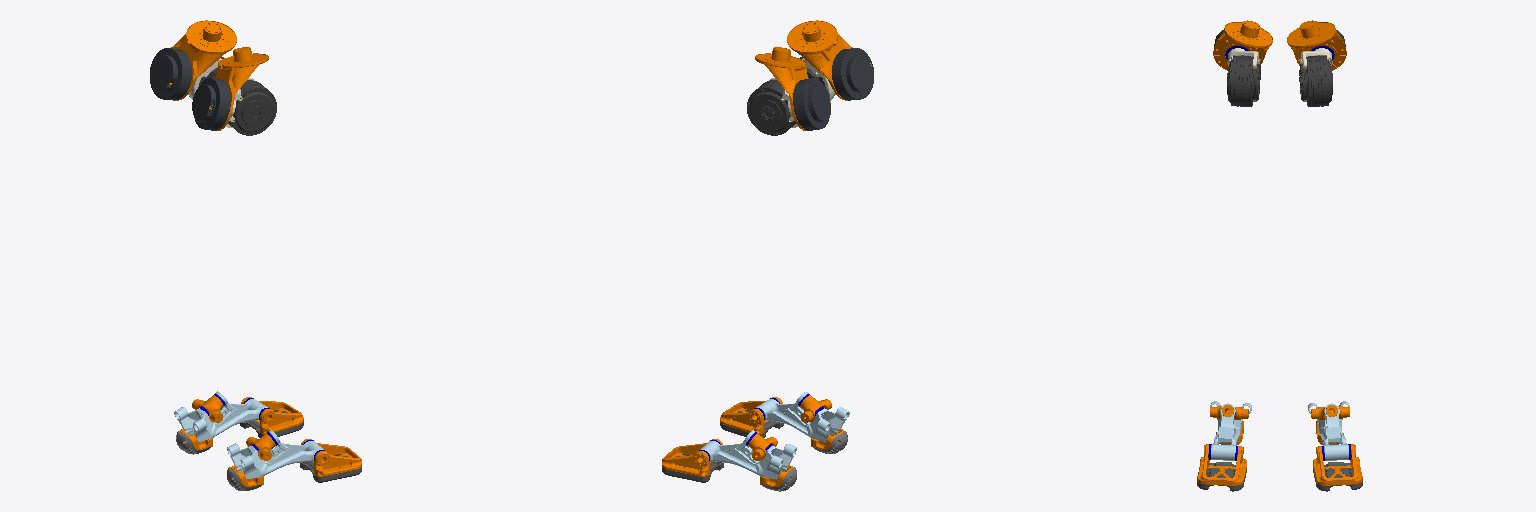
robot.urdf — prestoe:
<?xml version="1.0" encoding="utf-8"?>
<robot name="prestoe">
    <link name="world" />
    <joint name="floating_base_joint" type="floating">
        <parent link="world"/>
        <child link="torso_link"/>
    </joint>
    <link name="torso_link">
        <inertial>
            <mass value="7.3955327"/>
            <inertia ixx="314898.04974e-6" ixy="-23.52183e-6" ixz="-983.13041e-6" iyy="292494.07567e-6" iyz="824.26242e-6" izz="47419.11099e-6"/>
            <origin rpy="0 0 0" xyz="0.02827e-3 -0.53546e-3 170.93286e-3"/>
        </inertial>
        <visual>
            <origin rpy="0 0 0" xyz="0.0 0.0 0.0"/>
            <geometry>
                <mesh filename="../meshes/torso_link.dae"/>
            </geometry>
        </visual>
        <collision>
            <origin rpy="0 0 0" xyz="0.0 0.0 0.0"/>
            <geometry>
                <mesh filename="../meshes/torso_link.dae"/>
            </geometry>
        </collision>
    </link>

 <joint name="a_torsoyaw" type="fixed">
      <parent link="torso_link"/>
      <child link="pelvis"/>
      <axis xyz="0 0 1"/>
      <origin rpy="0 0 0" xyz="0.0 0.0 -44.5e-3"/>
      <limit effort="1000" lower="-1.57079632679" upper="1.57079632679" velocity="20"/>
  </joint>

    <link name="pelvis">
        <inertial>
            <mass value="4.05352722"/>
            <inertia ixx="16129.06382e-6" ixy="0.02459e-6" ixz="-11.24282e-6" iyy="8349.24216e-6" iyz="0.16863e-6" izz="13083.52644e-6"/>
            <origin xyz="0.1893e-3 -0.00259e-3 -24.14927e-3"/>
        </inertial>
        <visual>
            <origin rpy="0 0 0" xyz="0.0 0.0 0.0"/>
            <geometry>
                <mesh filename="../meshes/pelvis_link.dae"/>
            </geometry>
        </visual>
        <collision>
            <origin rpy="0 0 0" xyz="0.0 0.0 0.0"/>
            <geometry>
                <mesh filename="../meshes/pelvis_link.dae"/>
            </geometry>
        </collision>
    </link>

    <joint name="bR_hipyaw" type="revolute">
        <parent link="pelvis"/>
        <child link="R_hipyaw_link"/>
        <axis xyz="0 0 1"/>
        <origin rpy="-0.2618 0 0" xyz="0 -54.71371e-3 -48.37244e-3"/>
        <!-- <origin rpy="0 0 0" xyz="0.0 0.0 -44.5e-3"/> -->
        <limit lower="-1.57" upper="1.57" effort="100.0" velocity="20.0"/>
    </joint>
    <link name="R_hipyaw_link">
        <inertial>
            <mass value="0.81333271"/>
            <inertia ixx="1468.70277e-6" ixy="2.09444e-6" ixz="-808.6506e-6" iyy="1952.95398e-6" iyz="0.83174e-6" izz="1403.2719e-6"/>
            <origin rpy="0 0 0" xyz="-60.23929e-3 0.06825e-3 -73.37881e-3"/>
        </inertial>
        <visual>
            <origin rpy="0 0 0" xyz="0.0 0.0 0.0"/>
            <geometry>
                <mesh filename="../meshes/hip_yaw_link.dae"/>
            </geometry>
        </visual>
        <collision>
            <origin rpy="0 0 0" xyz="0.0 0.0 0.0"/>
            <geometry>
                <mesh filename="../meshes/hip_yaw_link.dae"/>
            </geometry>
        </collision>
    </link>

    <joint name="R_hiproll" type="revolute">
        <parent link="R_hipyaw_link"/>
        <child link="R_hiproll_link"/>
        <axis xyz="1 0 0"/>
        <origin rpy="0.2618 0.3491 0" xyz="-63.99211e-3 0 -95.68919e-3"/>
        <!--another 15 degree tilt to undo the first one and 20 degree tilt-->
        <limit lower="-1.57" upper="1.57" effort="100.0" velocity="20.0"/>
    </joint>
    <link name="R_hiproll_link">
        <inertial>
            <mass value="1.14932568"/>
            <inertia ixx="920.07414e-6" ixy="-23.66697e-6" ixz="15.05929e-6" iyy="1586.13101e-6" iyz="2.15892e-6" izz="1226.34131e-6"/>
            <origin rpy="0 0 0" xyz="66.03824e-3 15.28026e-3 0.35756e-3"/>
        </inertial>
        <visual>
            <origin rpy="0 0 0" xyz="0.0 0.0 0.0"/>
            <geometry>
                <mesh filename="../meshes/r_hip_roll_link.dae"/>
            </geometry>
        </visual>
        <collision>
            <origin rpy="0 0 0" xyz="0.0 0.0 0.0"/>
            <geometry>
                <mesh filename="../meshes/r_hip_roll_link.dae"/>
            </geometry>
        </collision>
    </link>

    <joint name="R_hippitch" type="revolute">
        <parent link="R_hiproll_link"/>
        <child link="R_hippitch_link"/>
        <axis xyz="0 1 0"/>
        <origin rpy="0 -0.3491 0" xyz="74e-3 -15.7e-3 0"/>
        <!--another -20 degree tilt to undo the previous one-->
        <limit lower="-1.57" upper="1.57" effort="100.0" velocity="20.0"/>
    </joint>
    <link name="R_hippitch_link">
        <inertial>
            <mass value="4.3699915"/>
            <inertia ixx="298924.68663e-6" ixy="-352.44425e-6" ixz="7197.82909e-6" iyy="300685.59195e-6" iyz="13956.63711e-6" izz="10177.56262e-6"/>
            <origin rpy="0 0 0" xyz="8.85609e-3 12.34699e-3 -236.4855e-3"/>
        </inertial>

        <visual>
            <origin rpy="0 0 0" xyz="0.0 0.0 0.0"/>
            <geometry>
                <mesh filename="../meshes/r_thigh_link.dae"/>
            </geometry>
        </visual>
        <collision>
            <origin rpy="0 0 0" xyz="0.0 0.0 0.0"/>
            <geometry>
                <mesh filename="../meshes/r_thigh_link.dae"/>
            </geometry>
        </collision>
    </link>


    <joint name="R_knee" type="revolute">
        <parent link="R_hippitch_link"/>
        <child link="R_shank_link"/>
        <axis xyz="0 1 0"/>
        <origin rpy="0 0 0" xyz="0.0 15.2e-3 -348e-3"/>
        <limit upper="2.61799" lower="0.0" effort="100.0" velocity="20.0"/>
    </joint>
    <link name="R_shank_link">
        <inertial>
            <mass value="1.53872774"/>
            <inertia ixx="94818.95217e-6" ixy="0.73746e-6" ixz="-1571.54542e-6" iyy="94726.4192e-6" iyz="40.20347e-6" izz="2088.92694e-6"/>
            <origin rpy="0 0 0" xyz="-0.32914e-3 0.04704e-3 -219.68202e-3"/>
        </inertial>

        <visual>
            <origin rpy="0 0 0" xyz="0.0 0.0 0.0"/>
            <geometry>
                <mesh filename="../meshes/shank_link.dae"/>
            </geometry>
        </visual>
        <collision>
            <origin rpy="0 0 0" xyz="0.0 0.0 0.0"/>
            <geometry>
                <mesh filename="../meshes/shank_link.dae"/>
            </geometry>
        </collision>
    </link>


    <joint name="R_anklepitch" type="revolute">
        <parent link="R_shank_link"/>
        <child link="R_ankle_link"/>
        <axis xyz="0 1 0"/>
        <origin rpy="0 -0.523599 0" xyz="0.0 0.0 -0.355"/>
        <!--shift downwards, rotate by -30 deg-->
        <limit lower="-1.57" upper="1.57" effort="100.0" velocity="20.0"/>
    </joint>
    <link name="R_ankle_link">
        <inertial>
            <mass value="0.20111053"/>
            <inertia ixx="48.83414e-6" ixy="0.00143e-6" ixz="-0.0021e-6" iyy="45.95624e-6" iyz="0.00153e-6" izz="74.52458e-6"/>
            <origin rpy="0 0 0" xyz="11.07071e-3 0.00053e-3 -0.00076e-3"/>
        </inertial>

        <visual>
            <origin rpy="0 0 0" xyz="0.0 0.0 0.0"/>
            <geometry>
                <mesh filename="../meshes/ankle_pitch_link.dae"/>
            </geometry>
        </visual>
        <collision>
            <origin rpy="0 0 0" xyz="0.0 0.0 0.0"/>
            <geometry>
                <mesh filename="../meshes/ankle_pitch_link.dae"/>
            </geometry>
        </collision>
    </link>


    <joint name="R_ankleroll" type="revolute">
        <parent link="R_ankle_link"/>
        <child link="R_foot_link"/>
        <axis xyz="1 0 0"/>
        <origin rpy="0 0 0" xyz="0.0 0.0 0.0"/>
        <limit lower="-0.785" upper="0.785" effort="100.0" velocity="20.0"/>
    </joint>
    <link name="R_foot_link">
        <inertial>
            <mass value="0.67696856"/>
            <inertia ixx="2711.33678e-6" ixy="-0.10761e-6" ixz="1805.42888e-6" iyy="4882.55547e-6" iyz="-0.08071e-6" izz="2592.25732e-6"/>
            <origin rpy="0 0 0" xyz="22.09392e-3 -0.00337e-3 -50.15365e-3"/>
        </inertial>

        <visual>
            <origin rpy="0 0 0" xyz="0.0 0.0 0.0"/>
            <geometry>
                <mesh filename="../meshes/foot_link.dae"/>
            </geometry>
        </visual>
        <collision>
            <origin rpy="0 0 0" xyz="0.0 0.0 0.0"/>
            <geometry>
                <mesh filename="../meshes/foot_link.dae"/>
            </geometry>
        </collision>
    </link>
    <link name="R_heel_contact"/>
    <joint name="R_heel_contact_joint" type="fixed">
        <parent link="R_foot_link"/>
        <child link="R_heel_contact"/>
        <origin xyz="-64.374e-3 0 -51.76e-3" rpy="0 0 0"/>
    </joint> 

    <joint name="R_toepitch" type="revolute">
        <parent link="R_foot_link"/>
        <child link="R_toe_link"/>
        <axis xyz="0 1 0"/>
        <origin rpy="0 0.523599 0" xyz="84.97837e-3 0.0 -85.43851e-3"/>
        <limit lower="-0.5236" upper="0.5236" effort="100.0" velocity="20.0"/>
    </joint>
    <link name="R_toe_link">
        <inertial>
            <mass value="0.25395867"/>
            <inertia ixx="422.66848e-6" ixy="0.30058e-6" ixz="201.67782e-6" iyy="648.32269e-6" iyz="0.69143e-6" izz="657.93967e-6"/>
            <origin rpy="0 0 0" xyz="27.48999e-3 0.10489e-3 -26.31463e-3"/>
        </inertial>

        <visual>
            <origin rpy="0 0 0" xyz="0.0 0.0 0.0"/>
            <geometry>
                <mesh filename="../meshes/toe_link.dae"/>
            </geometry>
        </visual>
        <collision>
            <origin rpy="0 0 0" xyz="0.0 0.0 0.0"/>
            <geometry>
                <mesh filename="../meshes/toe_link.dae"/>
            </geometry>
        </collision>
    </link>
    <link name="R_toe_contact_1"/>
    <joint name="R_toe_contact_joint_1" type="fixed">
        <parent link="R_toe_link"/>
        <child link="R_toe_contact_1"/>
        <origin xyz="69e-3 30e-3 -44.9e-3" rpy="0 0 0"/>
    </joint>
    <link name="R_toe_contact_2"/>
    <joint name="R_toe_contact_joint_2" type="fixed">
        <parent link="R_toe_link"/>
        <child link="R_toe_contact_2"/>
        <origin xyz="-4e-3 33e-3 -44.9e-3" rpy="0 0 0"/>
    </joint>
    <link name="R_toe_contact_3"/>
    <joint name="R_toe_contact_joint_3" type="fixed">
        <parent link="R_toe_link"/>
        <child link="R_toe_contact_3"/>
        <origin xyz="69e-3 -30e-3 -44.9e-3" rpy="0 0 0"/>
    </joint>
    <link name="R_toe_contact_4"/>
    <joint name="R_toe_contact_joint_4" type="fixed">
        <parent link="R_toe_link"/>
        <child link="R_toe_contact_4"/>
        <origin xyz="-4e-3 -33e-3 -44.9e-3" rpy="0 0 0"/>
    </joint>
    <!--1 _________3
        |           |
        2           4
            5
    -->

    <!--!!!!!!!!!!!! Left Leg !!!!!!!!!!!!!!!!!!!!!!!!!!!!!!!!!!!!-->
    <joint name="cL_hipyaw" type="revolute">
        <parent link="pelvis"/>
        <child link="L_hipyaw_link"/>
        <axis xyz="0 0 1"/>
        <origin rpy="0.2618 0 0" xyz="0 54.71371e-3 -48.37244e-3"/>
        <limit effort="100" lower="-1.570796" upper="1.570796" velocity="20"/>
    </joint>
    <link name="L_hipyaw_link">
        <inertial>
            <mass value="0.81333271"/>
            <inertia ixx="1468.70277e-6" ixy="2.09444e-6" ixz="-808.6506e-6" iyy="1952.95398e-6" iyz="0.83174e-6" izz="1403.2719e-6"/>
            <origin rpy="0 0 0" xyz="-60.23929e-3 0.06825e-3 -73.37881e-3"/>
            <!-- Since this is left leg, y coordinate is positive -->
        </inertial>
        <visual>
            <origin rpy="0 0 0" xyz="0.0 0.0 0.0"/>
            <geometry>
                <mesh filename="../meshes/hip_yaw_link.dae"/>
            </geometry>
        </visual>
        <collision>
            <origin rpy="0 0 0" xyz="0.0 0.0 0.0"/>
            <geometry>
                <mesh filename="../meshes/hip_yaw_link.dae"/>
            </geometry>
        </collision>
    </link>

    <joint name="L_hiproll" type="revolute">
        <parent link="L_hipyaw_link"/>
        <child link="L_hiproll_link"/>
        <axis xyz="1 0 0"/>
        <origin rpy="-0.2618 0.3491 0" xyz="-63.99211e-3 0 -95.68919e-3"/>
        <!--another -15 degree tilt to undo the first one and 20 degree tilt-->
        <limit effort="100" lower="-1.570796" upper="1.570796" velocity="20"/>
    </joint>
    <link name="L_hiproll_link">
        <inertial>
            <mass value="1.14932588"/>
            <inertia ixx="920.08555e-6" ixy="23.66599e-6" ixz="13.88681e-6" iyy="1586.14307e-6" iyz="-2.43377e-6" izz="1226.34169e-6"/>
            <origin rpy="0 0 0" xyz="66.03823e-3 -15.28028e-3 0.34236e-3"/>
        </inertial>
        <visual>
            <origin rpy="0 0 0" xyz="0.0 0.0 0.0"/>
            <geometry>
                <mesh filename="../meshes/l_hip_roll_link.dae"/>
            </geometry>
        </visual>
        <collision>
            <origin rpy="0 0 0" xyz="0.0 0.0 0.0"/>
            <geometry>
                <mesh filename="../meshes/l_hip_roll_link.dae"/>
            </geometry>
        </collision>
    </link>

    <joint name="L_hippitch" type="revolute">
        <parent link="L_hiproll_link"/>
        <child link="L_hippitch_link"/>
        <axis xyz="0 1 0"/>
        <origin rpy="0 -0.3491 0" xyz="74e-3 15.7e-3 0"/>
        <!--another -20 degree tilt to undo the previous one-->
        <limit effort="100" lower="-1.570796" upper="1.570796" velocity="20"/>
    </joint>
    <link name="L_hippitch_link">
        <inertial>
            <mass value="4.3699915"/>
            <inertia ixx="298924.68663e-6" ixy="352.44425e-6" ixz="7197.82909e-6" iyy="300685.59195e-6" iyz="-13956.63711e-6" izz="10177.56262e-6"/>
            <origin rpy="0 0 0" xyz="8.85609e-3 -12.34699e-3 -236.4855e-3"/>
            <!-- Since this is left leg, y coordinate is negative -->
        </inertial>

        <visual>
            <origin rpy="0 0 0" xyz="0.0 0.0 0.0"/>
            <geometry>
                <mesh filename="../meshes/l_thigh_link.dae"/>
            </geometry>
        </visual>
        <collision>
            <origin rpy="0 0 0" xyz="0.0 0.0 0.0"/>
            <geometry>
                <mesh filename="../meshes/l_thigh_link.dae"/>
            </geometry>
        </collision>
    </link>


    <joint name="L_knee" type="revolute">
        <parent link="L_hippitch_link"/>
        <child link="L_shank_link"/>
        <axis xyz="0 1 0"/>
        <origin rpy="0 0 0" xyz="0.0 -15.2e-3 -348e-3"/>
        <limit effort="100" upper="2.61799" lower="0.0" velocity="20"/>
    </joint>
    <link name="L_shank_link">
        <inertial>
            <mass value="1.53872774"/>
            <inertia ixx="94818.95217e-6" ixy="0.73746e-6" ixz="-1571.54542e-6" iyy="94726.4192e-6" iyz="40.20347e-6" izz="2088.92694e-6"/>
            <origin rpy="0 0 0" xyz="-0.32914e-3 0.04704e-3 -219.68202e-3"/>
        </inertial>

        <visual>
            <origin rpy="0 0 0" xyz="0.0 0.0 0.0"/>
            <geometry>
                <mesh filename="../meshes/shank_link.dae"/>
            </geometry>
        </visual>
        <collision>
            <origin rpy="0 0 0" xyz="0.0 0.0 0.0"/>
            <geometry>
                <mesh filename="../meshes/shank_link.dae"/>
            </geometry>
        </collision>
    </link>


    <joint name="L_anklepitch" type="revolute">
        <parent link="L_shank_link"/>
        <child link="L_ankle_link"/>
        <axis xyz="0 1 0"/>
        <origin rpy="0 -0.523599 0" xyz="0.0 0.0 -0.355"/>
        <!--shift downwards, rotate by -30 deg-->
        <limit effort="100" lower="-1.570796" upper="1.570796" velocity="20"/>
    </joint>
    <link name="L_ankle_link">
        <inertial>
            <mass value="0.20111053"/>
            <inertia ixx="48.83414e-6" ixy="0.00143e-6" ixz="-0.0021e-6" iyy="45.95624e-6" iyz="0.00153e-6" izz="74.52458e-6"/>
            <origin rpy="0 0 0" xyz="11.07071e-3 0.00053e-3 -0.00076e-3"/>
        </inertial>

        <visual>
            <origin rpy="0 0 0" xyz="0.0 0.0 0.0"/>
            <geometry>
                <mesh filename="../meshes/ankle_pitch_link.dae"/>
            </geometry>
        </visual>
        <collision>
            <origin rpy="0 0 0" xyz="0.0 0.0 0.0"/>
            <geometry>
                <mesh filename="../meshes/ankle_pitch_link.dae"/>
            </geometry>
        </collision>
    </link>


    <joint name="L_ankleroll" type="revolute">
        <parent link="L_ankle_link"/>
        <child link="L_foot_link"/>
        <axis xyz="1 0 0"/>
        <origin rpy="0 0 0" xyz="0.0 0.0 0.0"/>
        <limit effort="100" lower="-0.523599" upper="0.523599" velocity="20"/>
    </joint>
    <link name="L_foot_link">
        <inertial>
            <mass value="0.67696856"/>
            <inertia ixx="2711.33678e-6" ixy="-0.10761e-6" ixz="1805.42888e-6" iyy="4882.55547e-6" iyz="-0.08071e-6" izz="2592.25732e-6"/>
            <origin rpy="0 0 0" xyz="22.09392e-3 -0.00337e-3 -50.15365e-3"/>
        </inertial>

        <visual>
            <origin rpy="0 0 0" xyz="0.0 0.0 0.0"/>
            <geometry>
                <mesh filename="../meshes/foot_link.dae"/>
            </geometry>
        </visual>
        <collision>
            <origin rpy="0 0 0" xyz="0.0 0.0 0.0"/>
            <geometry>
                <mesh filename="../meshes/foot_link.dae"/>
            </geometry>
        </collision>
    </link>
    <link name="L_heel_contact"/>
    <joint name="L_heel_contact_joint" type="fixed">
        <parent link="L_foot_link"/>
        <child link="L_heel_contact"/>
        <origin xyz="-63.374e-3 0 -51.76e-3" rpy="0 0 0"/>
    </joint>

    <joint name="L_toepitch" type="revolute">
        <parent link="L_foot_link"/>
        <child link="L_toe_link"/>
        <axis xyz="0 1 0"/>
        <origin rpy="0 0.523599 0" xyz="84.97837e-3 0.0 -85.43851e-3"/>
        <limit effort="100" lower="-0.523599" upper="0.523599" velocity="20"/>
    </joint>
    <link name="L_toe_link">
        <inertial>
            <mass value="0.25395867"/>
            <inertia ixx="422.66848e-6" ixy="0.30058e-6" ixz="201.67782e-6" iyy="648.32269e-6" iyz="0.69143e-6" izz="657.93967e-6"/>
            <origin rpy="0 0 0" xyz="27.48999e-3 0.10489e-3 -26.31463e-3"/>
        </inertial>

        <visual>
            <origin rpy="0 0 0" xyz="0.0 0.0 0.0"/>
            <geometry>
                <mesh filename="../meshes/toe_link.dae"/>
            </geometry>
        </visual>
        <collision>
            <origin rpy="0 0 0" xyz="0.0 0.0 0.0"/>
            <geometry>
                <mesh filename="../meshes/toe_link.dae"/>
            </geometry>
        </collision>
    </link>

    <link name="L_toe_contact_1"/>
    <joint name="L_toe_contact_joint_1" type="fixed">
        <parent link="L_toe_link"/>
        <child link="L_toe_contact_1"/>
        <origin xyz="69e-3 30e-3 -44.9e-3" rpy="0 0 0"/>
    </joint>
    <link name="L_toe_contact_2"/>
    <joint name="L_toe_contact_joint_2" type="fixed">
        <parent link="L_toe_link"/>
        <child link="L_toe_contact_2"/>
        <origin xyz="-4e-3 33e-3 -44.9e-3" rpy="0 0 0"/>
    </joint>
    <link name="L_toe_contact_3"/>
    <joint name="L_toe_contact_joint_3" type="fixed">
        <parent link="L_toe_link"/>
        <child link="L_toe_contact_3"/>
        <origin xyz="69e-3 -30e-3 -44.9e-3" rpy="0 0 0"/>
    </joint>
    <link name="L_toe_contact_4"/>
    <joint name="L_toe_contact_joint_4" type="fixed">
        <parent link="L_toe_link"/>
        <child link="L_toe_contact_4"/>
        <origin xyz="-4e-3 -33e-3 -44.9e-3" rpy="0 0 0"/>
    </joint>

</robot>

--- Facts derived from the render (not from the file) ---
Views: 3 orthographic renders of the robot side by side, from view 1: azimuth 30°, elevation 25°; view 2: azimuth 150°, elevation 25°; view 3: azimuth 270°, elevation 25°.
Robot: prestoe — 27 links, 26 joints (14 revolute, 11 fixed, 1 floating); root link world; default pose: all joints at 0.
Links seen in each view (by area): view 1: L_hipyaw_link, R_hipyaw_link, R_foot_link, L_foot_link, R_hiproll_link, R_toe_link, L_toe_link, L_ankle_link; view 2: R_hipyaw_link, L_hipyaw_link, L_foot_link, R_foot_link, L_hiproll_link, L_toe_link, R_toe_link, R_ankle_link; view 3: R_hiproll_link, L_hiproll_link, R_hipyaw_link, L_hipyaw_link, R_toe_link, L_toe_link, R_foot_link, L_foot_link.
Boxes of the visible links, left/top/right/bottom form: L_hipyaw_link: left=150, top=20, right=236, bottom=100; R_hipyaw_link: left=192, top=47, right=268, bottom=130; R_foot_link: left=227, top=430, right=324, bottom=490; L_foot_link: left=174, top=391, right=269, bottom=454; R_hiproll_link: left=225, top=78, right=276, bottom=135; R_toe_link: left=300, top=439, right=361, bottom=482; L_toe_link: left=240, top=397, right=303, bottom=437; L_ankle_link: left=192, top=394, right=225, bottom=422; R_hipyaw_link: left=787, top=20, right=873, bottom=100; L_hipyaw_link: left=755, top=47, right=830, bottom=130; L_foot_link: left=699, top=430, right=796, bottom=491; R_foot_link: left=754, top=392, right=849, bottom=453; L_hiproll_link: left=747, top=78, right=798, bottom=135; L_toe_link: left=662, top=439, right=723, bottom=482; R_toe_link: left=720, top=397, right=783, bottom=437; R_ankle_link: left=798, top=394, right=831, bottom=422; R_hiproll_link: left=1227, top=48, right=1260, bottom=106; L_hiproll_link: left=1299, top=48, right=1332, bottom=106; R_hipyaw_link: left=1213, top=20, right=1272, bottom=70; L_hipyaw_link: left=1287, top=20, right=1346, bottom=70; R_toe_link: left=1197, top=444, right=1246, bottom=491; L_toe_link: left=1313, top=444, right=1362, bottom=491; R_foot_link: left=1208, top=401, right=1251, bottom=460; L_foot_link: left=1308, top=401, right=1351, bottom=460.
Bounding box of the posed robot: 0.3278 × 0.3194 × 0.9013 m (x, y, z).
10 mesh visuals loaded from 11 distinct referenced files (6 Collada DAE); not drawn: 6 (reference not matched to a file when rendering).
